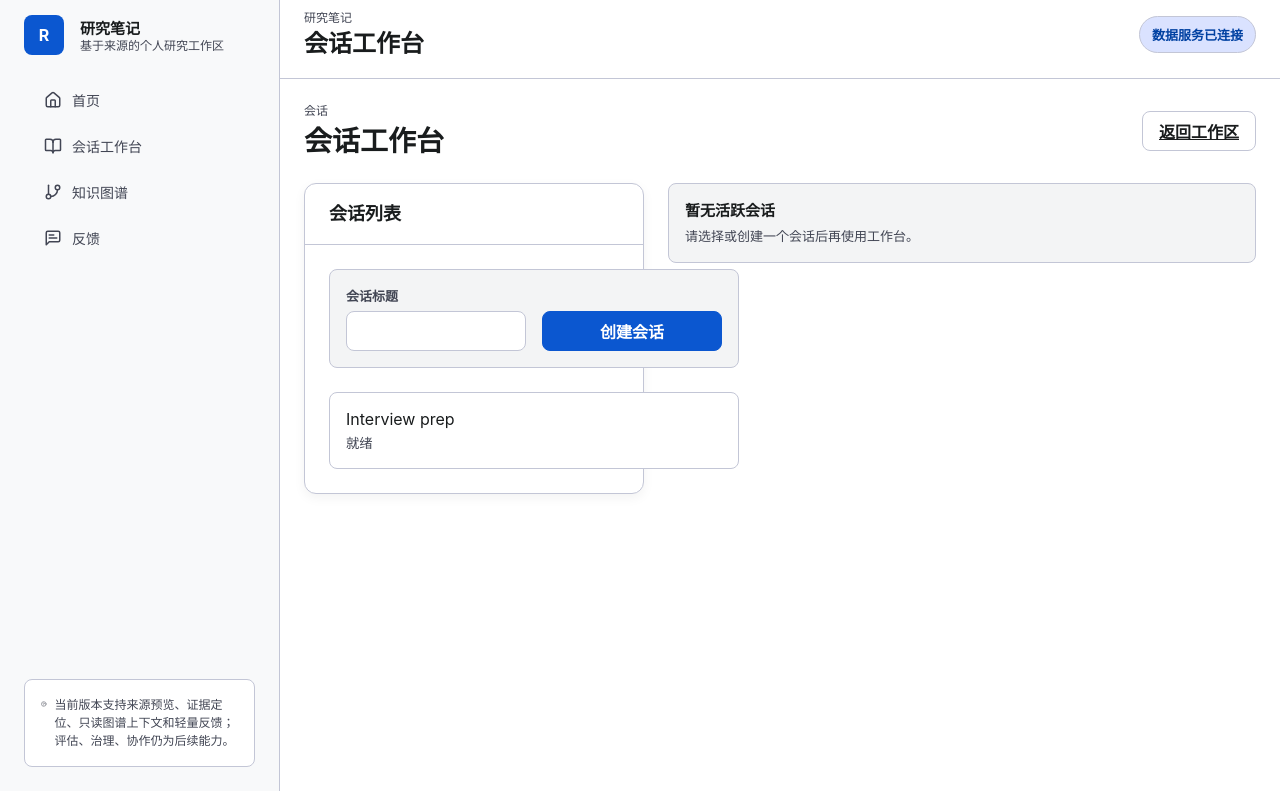
it: 会话工作台 smoke › renders session graph context without blocking session answer
Click the button "Interview prep 就绪": point(400, 419) [329, 392, 739, 469]
(page scrolled)
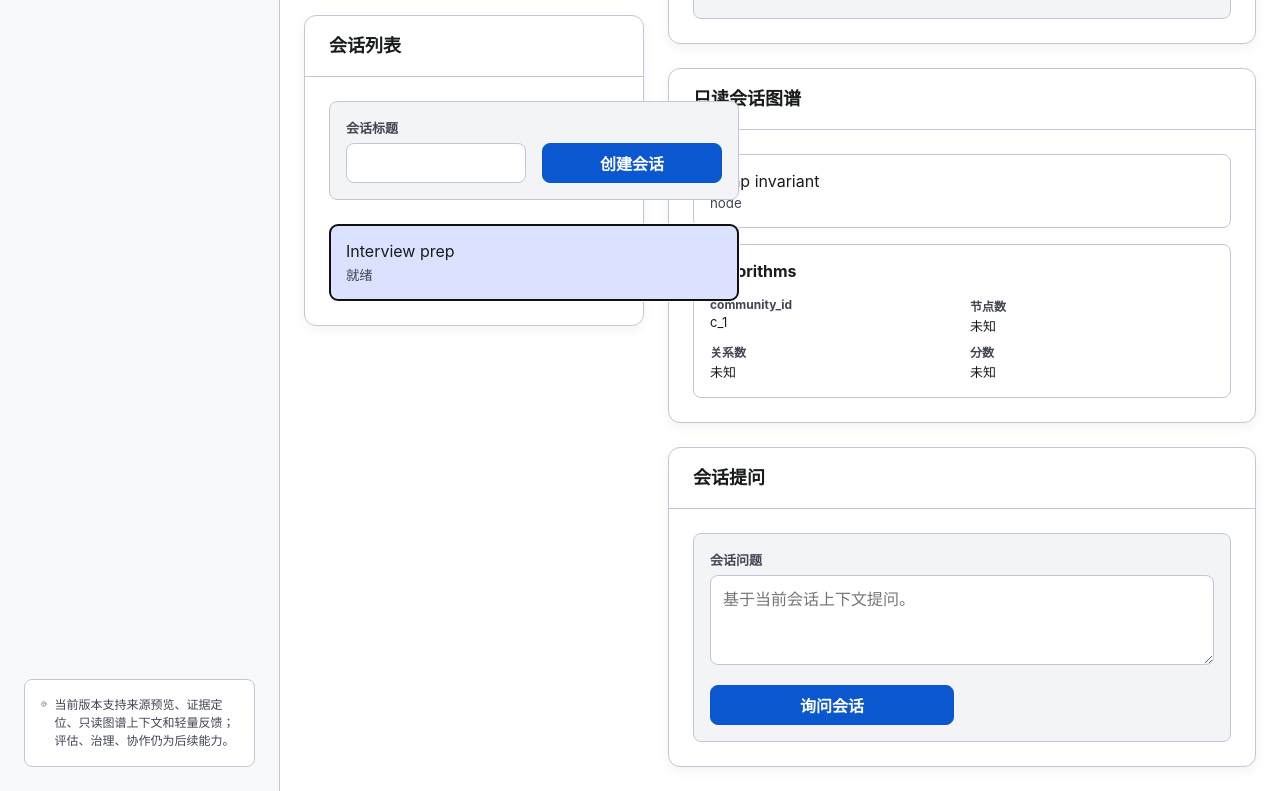
Check: the text "Heap invariant" is shown, box [710, 171, 819, 191]
In the text box labelled "会话问题": point(962, 620) [710, 575, 1214, 665], type "Still ask?"
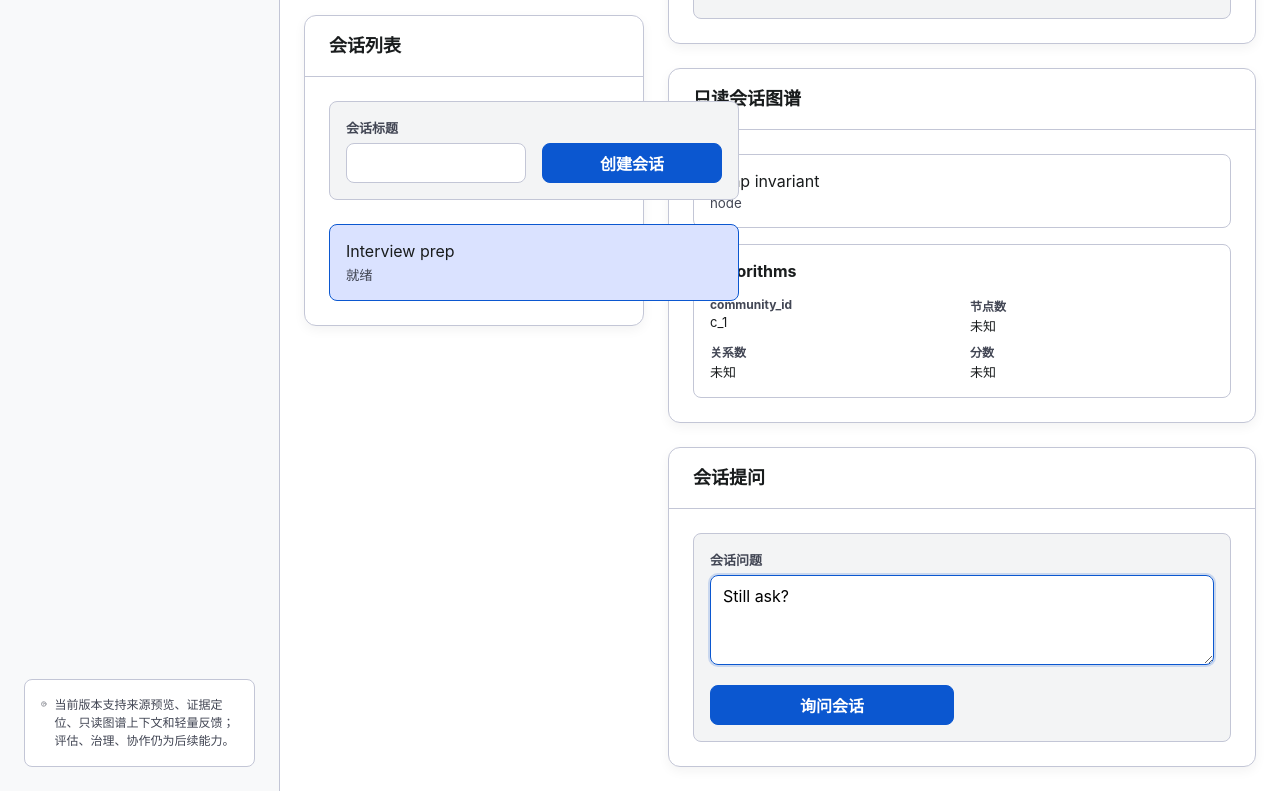
Click the button "询问会话": point(832, 705) [710, 685, 954, 725]
(page scrolled)
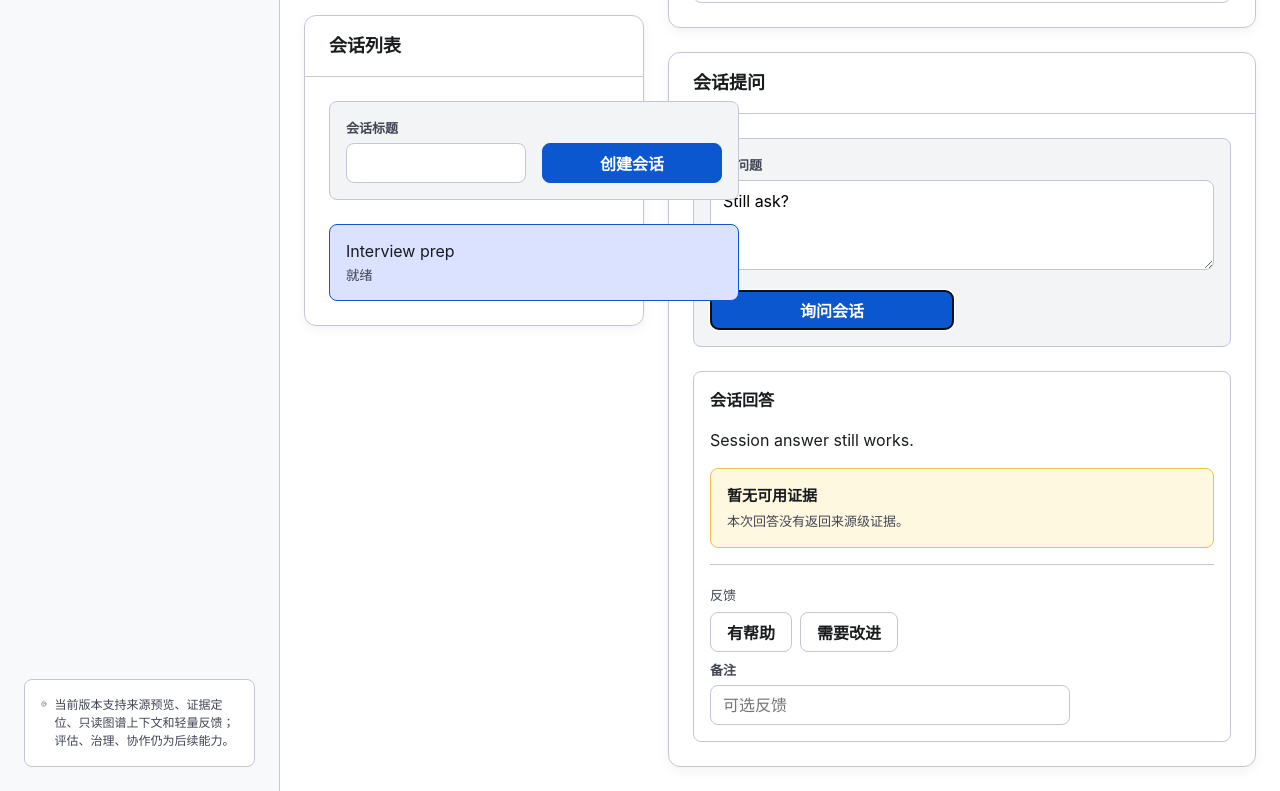
Check: the text "Session answer still works." is shown, box [710, 430, 914, 450]
